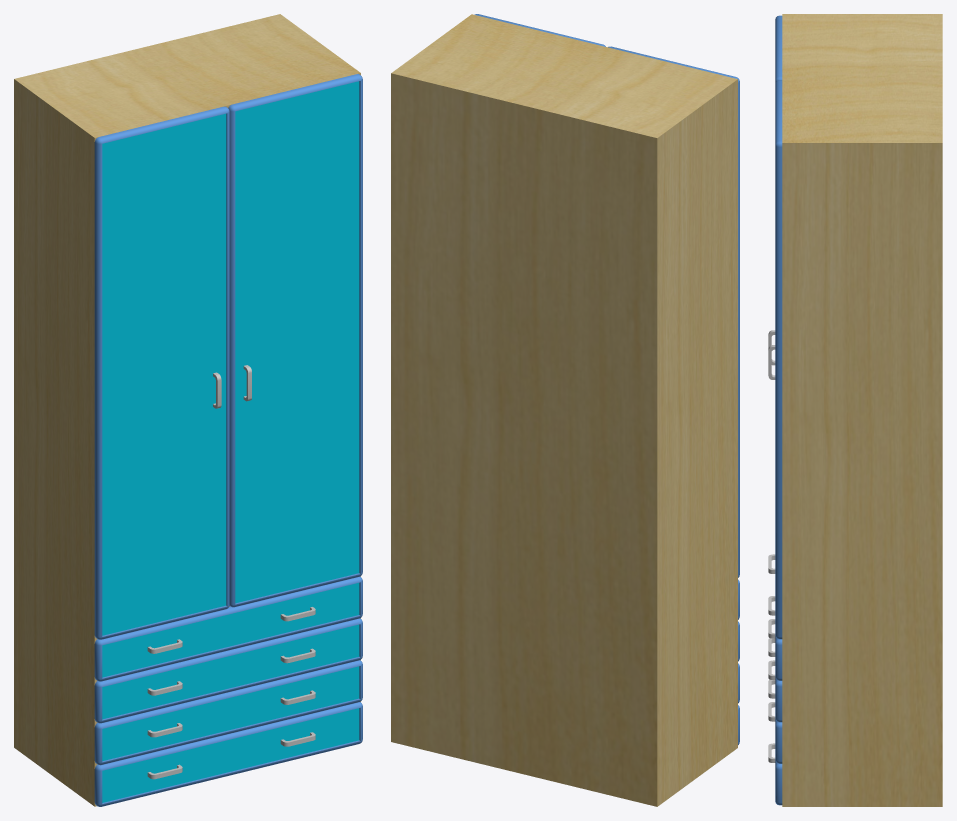
Rendered from sweethome3d-lucapresidente-blue-wardrobe.glb.
3 views of the same model, side by side, from view 1: azimuth 30°, elevation 25°; view 2: azimuth 150°, elevation 25°; view 3: azimuth 270°, elevation 25° (orthographic).
Visible parts, largest first — view 1: Box08_1, Box09_3, Box10_4, Box11_7, Box12_8, Box13_10, Box14_12, ChamferBox07_2, ChamferBox08_5, ChamferBox12_13, ChamferBox09_6, ChamferBox11_11 (+1 smaller); view 2: Box08_1, ChamferBox07_2; view 3: Box08_1, ChamferBox08_5, ChamferBox07_2, ChamferBox10_9, ChamferBox12_13, ChamferBox09_6, ChamferBox11_11.
Part boxes in pixels (<box>): Box08_1: <box>14,14,360,806</box>; Box09_3: <box>102,113,226,635</box>; Box10_4: <box>235,81,359,603</box>; Box11_7: <box>102,708,359,802</box>; Box12_8: <box>102,666,359,760</box>; Box13_10: <box>102,624,359,719</box>; Box14_12: <box>102,583,359,677</box>; ChamferBox07_2: <box>94,106,229,639</box>; ChamferBox08_5: <box>228,74,362,607</box>; ChamferBox12_13: <box>94,576,362,681</box>; ChamferBox09_6: <box>94,702,362,806</box>; ChamferBox11_11: <box>94,618,362,723</box>; Box08_1: <box>391,14,737,806</box>; ChamferBox07_2: <box>608,46,739,577</box>; Box08_1: <box>782,14,942,806</box>; ChamferBox08_5: <box>775,80,782,639</box>; ChamferBox07_2: <box>775,15,782,82</box>; ChamferBox10_9: <box>775,719,782,763</box>; ChamferBox12_13: <box>775,636,782,680</box>; ChamferBox09_6: <box>775,760,782,805</box>; ChamferBox11_11: <box>775,677,782,722</box>.
Bounding box in the file's own units: 100 × 240 × 57.
4 materials, 1 textured.
